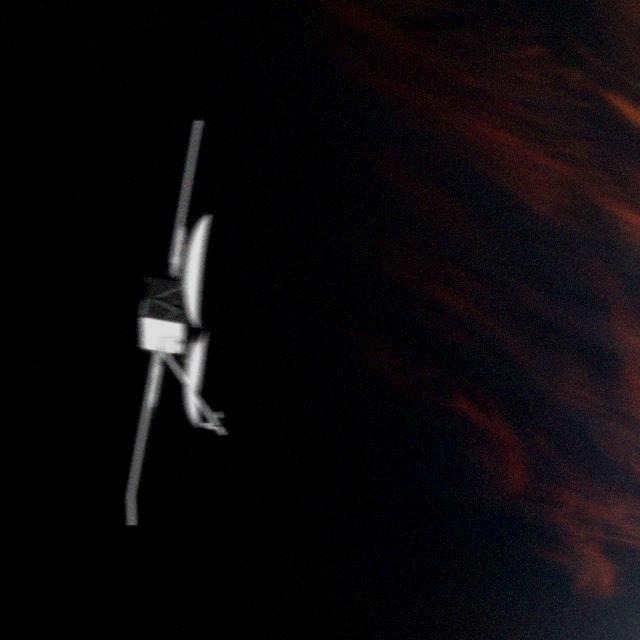satellite: (94, 104, 246, 534)
